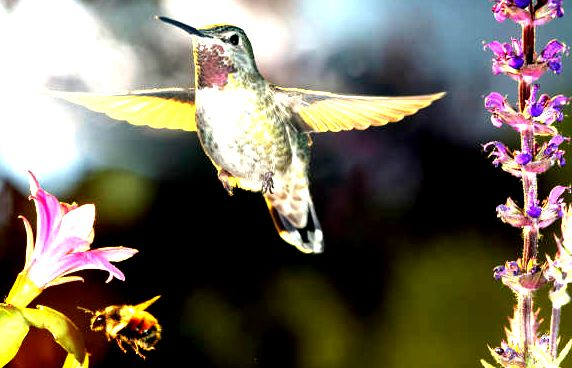Bird: (57, 13, 448, 255)
